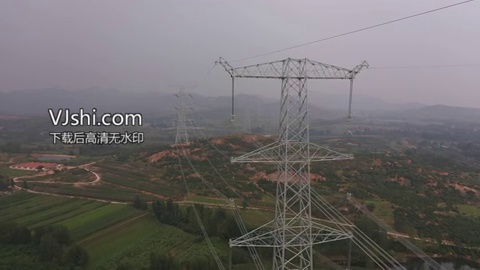tower_body: (209, 46, 375, 270), (165, 81, 201, 148)
tower_foot: (269, 248, 316, 270), (174, 129, 190, 145)
tower_head: (212, 49, 371, 85), (168, 83, 199, 97)
